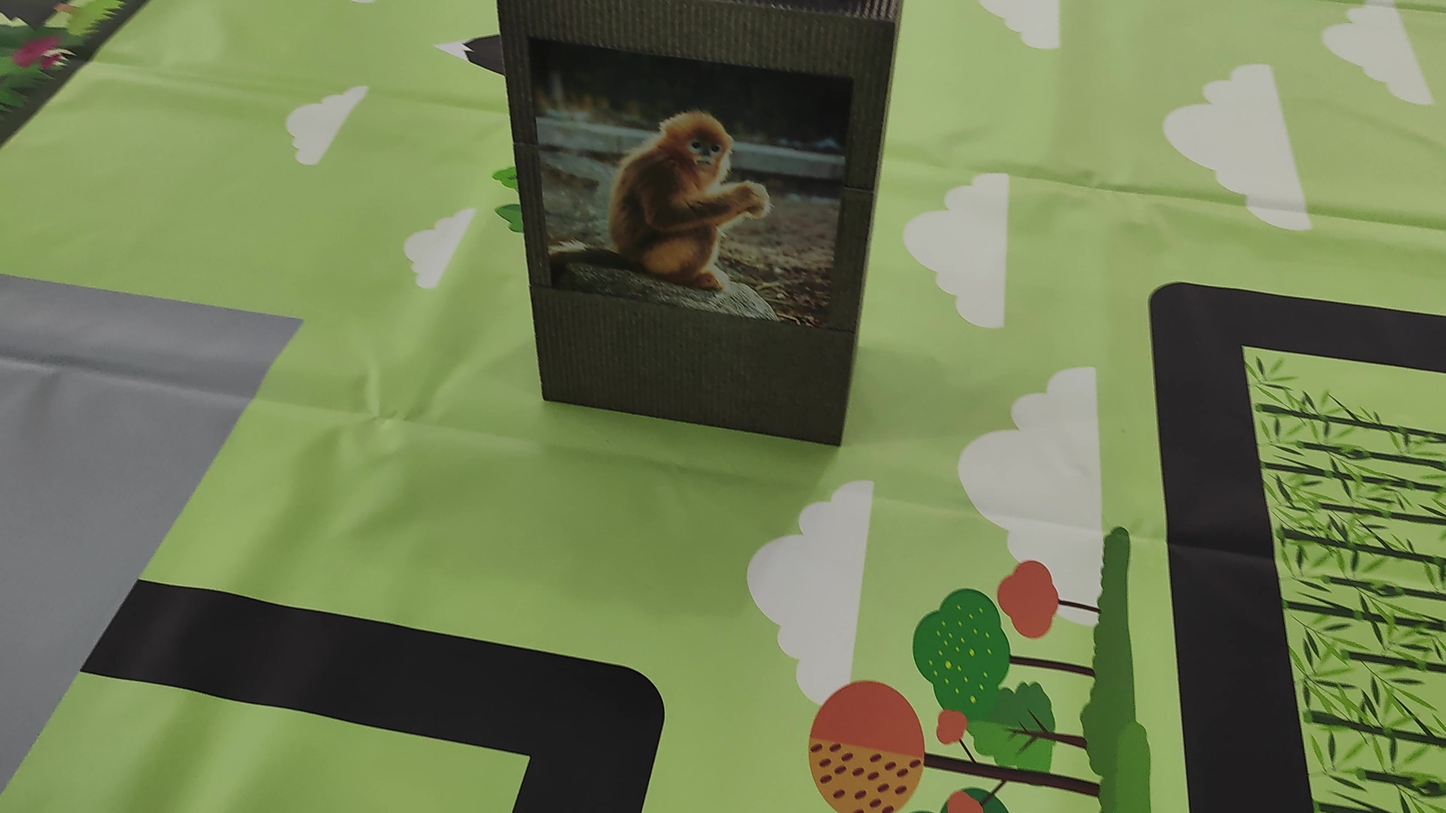monkey: (526, 56, 834, 331)
